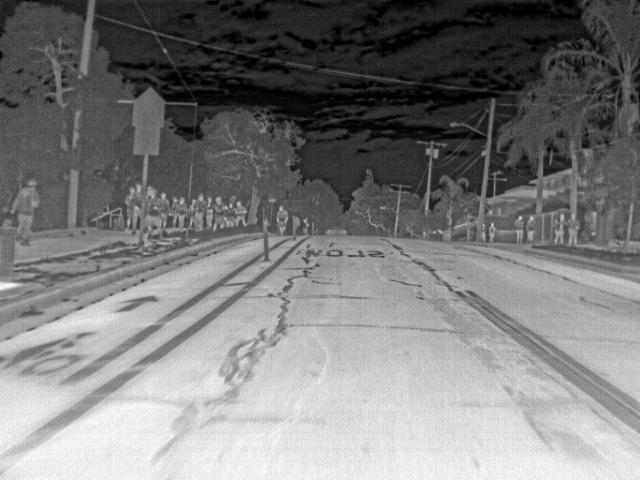car: (327, 223, 349, 235)
person: (10, 176, 42, 246), (145, 186, 160, 242), (120, 184, 135, 230), (130, 182, 143, 233), (176, 194, 190, 232), (159, 190, 171, 234), (567, 210, 582, 245), (194, 191, 207, 231), (553, 210, 567, 245), (166, 194, 179, 231), (202, 195, 215, 231), (275, 204, 289, 236), (213, 194, 225, 230), (185, 195, 197, 230), (524, 213, 538, 243), (233, 199, 248, 226), (513, 214, 526, 243), (223, 199, 235, 228), (486, 221, 498, 243), (300, 216, 312, 234)
